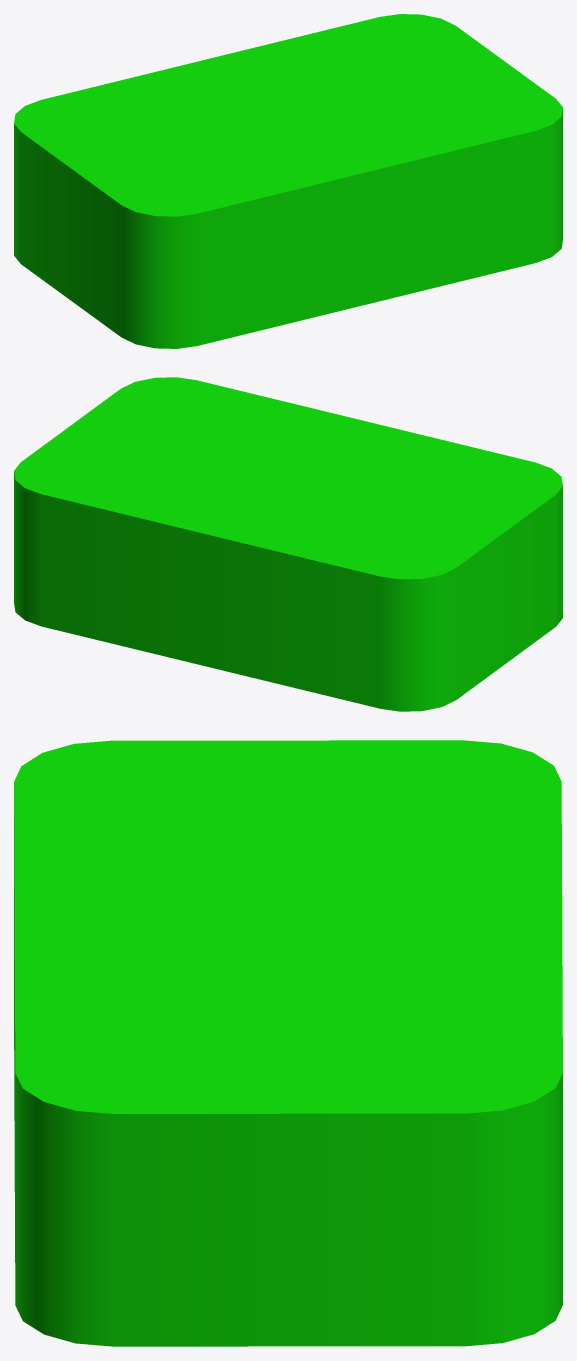
Rendered from sm_collider_009.fbx.
3 renders of one model, top to bottom at view 1: azimuth 30°, elevation 25°; view 2: azimuth 150°, elevation 25°; view 3: azimuth 270°, elevation 25°, orthographic. The views are drawn at different scales.
Visible parts, largest first — view 1: sm_collider.009; view 2: sm_collider.009; view 3: sm_collider.009.
Part boxes in pixels (x1,y1,x2,y2): sm_collider.009: (14,14,562,348); sm_collider.009: (14,377,562,711); sm_collider.009: (14,740,562,1346).
Bounding box in the file's own units: 1201 × 349 × 746.
